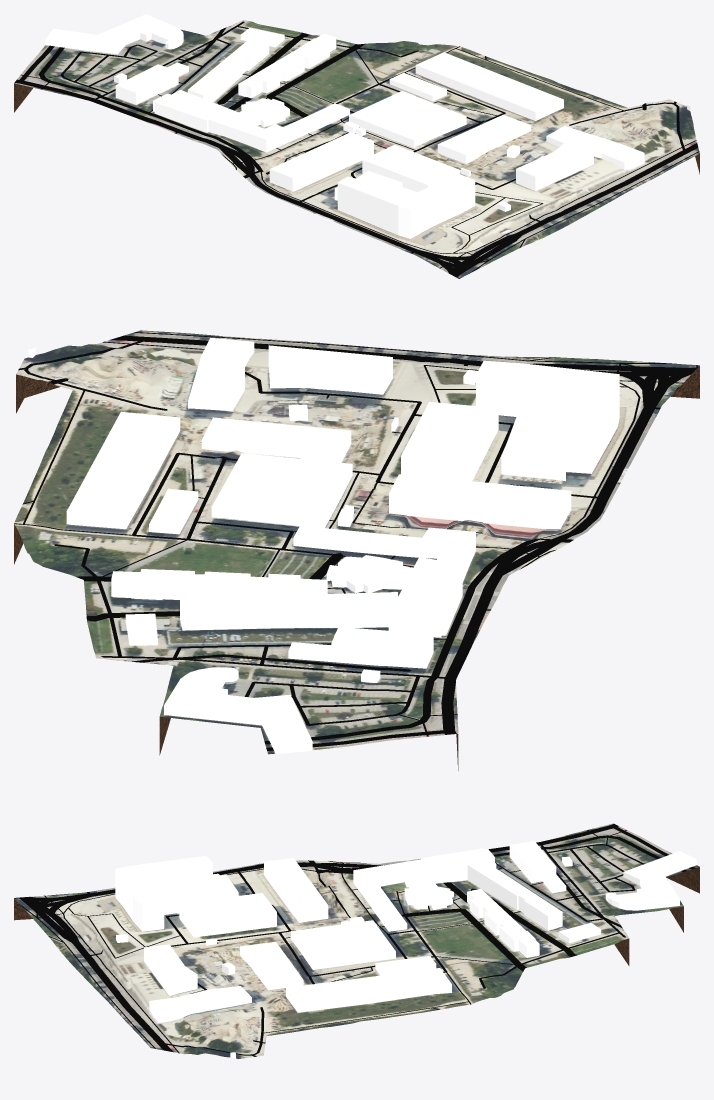
The model's file is THImap3d.glb.
3 views of the same model, one above another, from view 1: azimuth 30°, elevation 25°; view 2: azimuth 150°, elevation 25°; view 3: azimuth 270°, elevation 25° (orthographic). The views are drawn at different scales.
Parts seen in each view (by area): view 1: tinMesh, building_0122c352-f1b1-47f8-8394-1fd011b6ba21_part_1, building_26, building_27, building_07a4ae63-8290-462e-b58a-5f9c0437ded8_part_0, building_2, building_16, building_23, building_4, building_6, building_ab3827f2-f390-49bc-ae9c-09faec19c348_part_0, building_28 (+13 smaller); view 2: tinMesh, building_0122c352-f1b1-47f8-8394-1fd011b6ba21_part_1, building_27, building_26, building_2, building_ab3827f2-f390-49bc-ae9c-09faec19c348_part_0, building_07a4ae63-8290-462e-b58a-5f9c0437ded8_part_0, building_16, building_23, building_4, building_28, building_6 (+21 smaller); view 3: tinMesh, building_26, building_0122c352-f1b1-47f8-8394-1fd011b6ba21_part_1, building_27, building_23, building_07a4ae63-8290-462e-b58a-5f9c0437ded8_part_0, building_16, building_ab3827f2-f390-49bc-ae9c-09faec19c348_part_0, building_2, building_4, building_6, building_28 (+13 smaller).
Boxes of the visible parts, x1,y1,x2,y2 form: tinMesh: [14, 20, 699, 278]; building_0122c352-f1b1-47f8-8394-1fd011b6ba21_part_1: [337, 173, 475, 238]; building_26: [415, 52, 563, 120]; building_27: [349, 91, 466, 147]; building_07a4ae63-8290-462e-b58a-5f9c0437ded8_part_0: [153, 90, 288, 152]; building_2: [269, 132, 373, 191]; building_16: [45, 14, 183, 54]; building_23: [362, 145, 460, 191]; building_4: [238, 34, 336, 98]; building_6: [437, 114, 531, 163]; building_ab3827f2-f390-49bc-ae9c-09faec19c348_part_0: [188, 36, 269, 102]; building_28: [516, 143, 593, 191]; tinMesh: [14, 330, 699, 754]; building_0122c352-f1b1-47f8-8394-1fd011b6ba21_part_1: [476, 360, 619, 473]; building_27: [211, 453, 352, 527]; building_26: [66, 411, 180, 529]; building_2: [389, 474, 571, 529]; building_ab3827f2-f390-49bc-ae9c-09faec19c348_part_0: [180, 592, 397, 630]; building_07a4ae63-8290-462e-b58a-5f9c0437ded8_part_0: [388, 527, 475, 637]; building_16: [164, 667, 312, 753]; building_23: [401, 401, 498, 481]; building_4: [111, 569, 327, 599]; building_28: [268, 345, 392, 394]; building_6: [201, 417, 351, 462]; tinMesh: [14, 823, 699, 1058]; building_26: [286, 968, 451, 1012]; building_0122c352-f1b1-47f8-8394-1fd011b6ba21_part_1: [115, 856, 212, 931]; building_27: [290, 920, 395, 969]; building_23: [179, 892, 276, 937]; building_07a4ae63-8290-462e-b58a-5f9c0437ded8_part_0: [353, 848, 496, 895]; building_16: [605, 851, 696, 910]; building_ab3827f2-f390-49bc-ae9c-09faec19c348_part_0: [467, 862, 562, 930]; building_2: [264, 858, 328, 922]; building_4: [467, 889, 539, 957]; building_6: [240, 941, 303, 990]; building_28: [144, 944, 197, 995].
Bounding box in the file's own units: 633 × 67.05 × 789.
12 materials, 2 textured.
